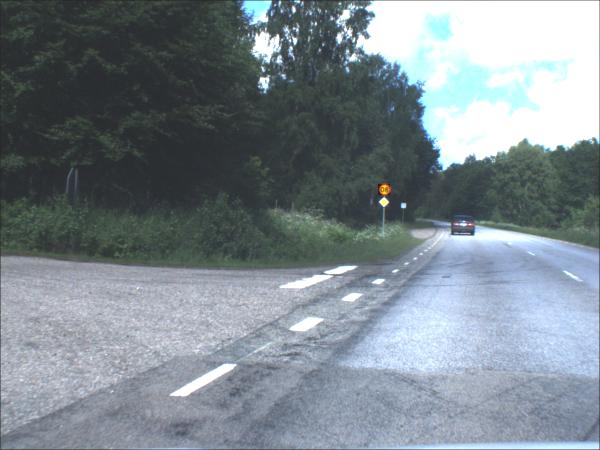80_SIGN: (378, 185, 391, 197)
PRIORITY_ROAD: (378, 199, 390, 209)
